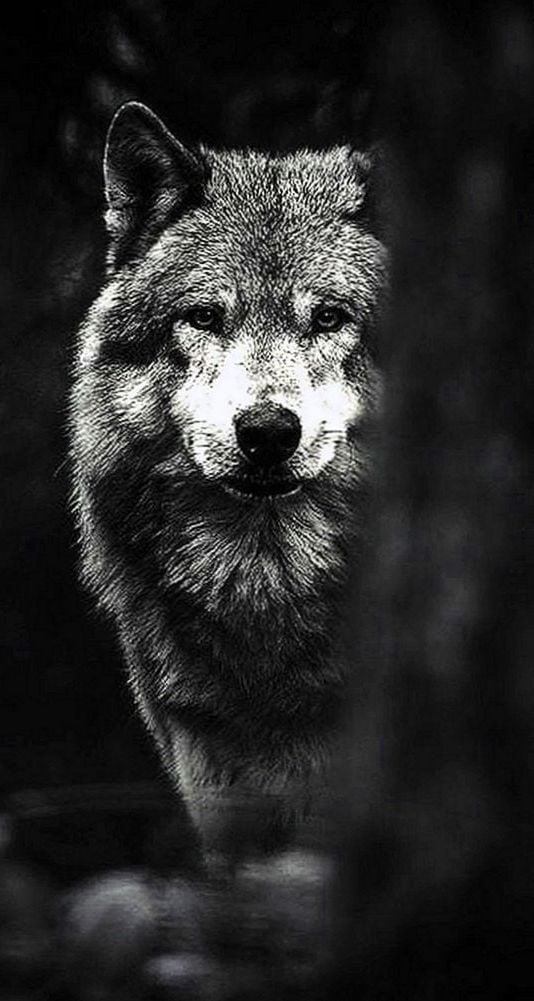Lobo: (87, 80, 395, 869)
